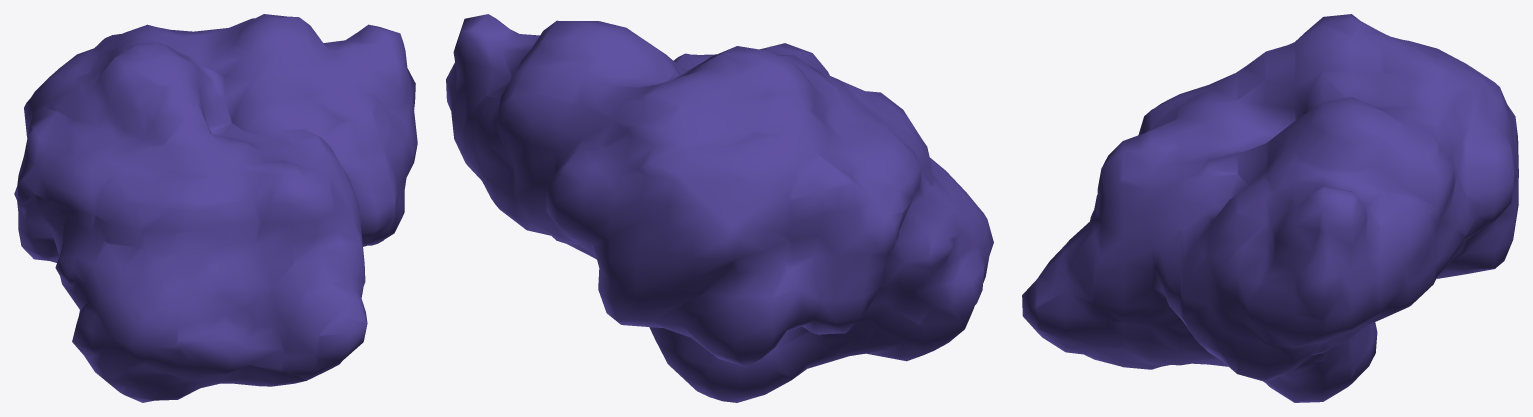
File: onemer1TTT_prot.dae
3 renders of one model, left to right at view 1: azimuth 30°, elevation 25°; view 2: azimuth 150°, elevation 25°; view 3: azimuth 270°, elevation 25°, orthographic. The views are drawn at different scales.
Visible parts, largest first — view 1: CoarseMS_1tttBioSimp; view 2: CoarseMS_1tttBioSimp; view 3: CoarseMS_1tttBioSimp.
Boxes of the visible parts, x1,y1,x2,y2 form: CoarseMS_1tttBioSimp: (14,14,417,402); CoarseMS_1tttBioSimp: (446,14,993,402); CoarseMS_1tttBioSimp: (1022,14,1518,402).
Bounding box in the file's own units: 70.58 × 52.55 × 66.2.
